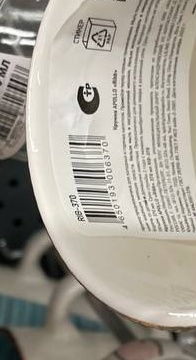1d: (68, 133, 122, 225)
